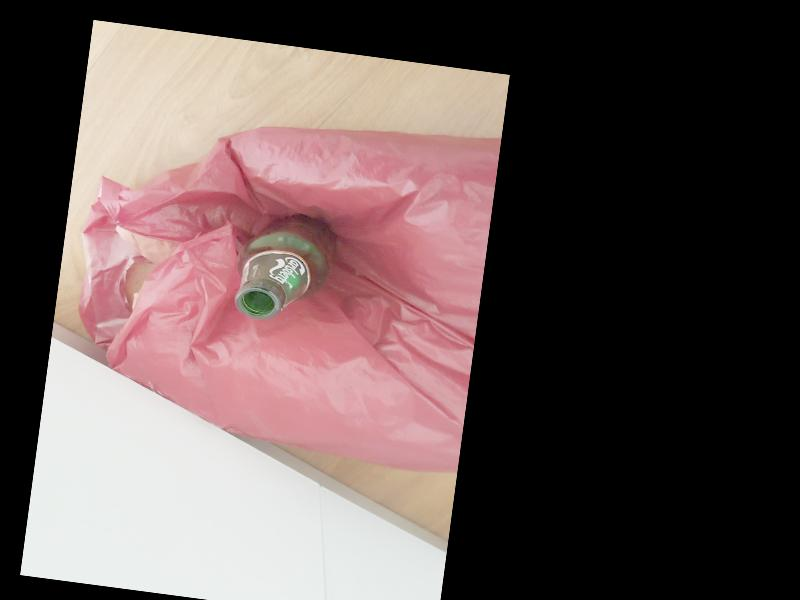Beer: (233, 206, 336, 326)
